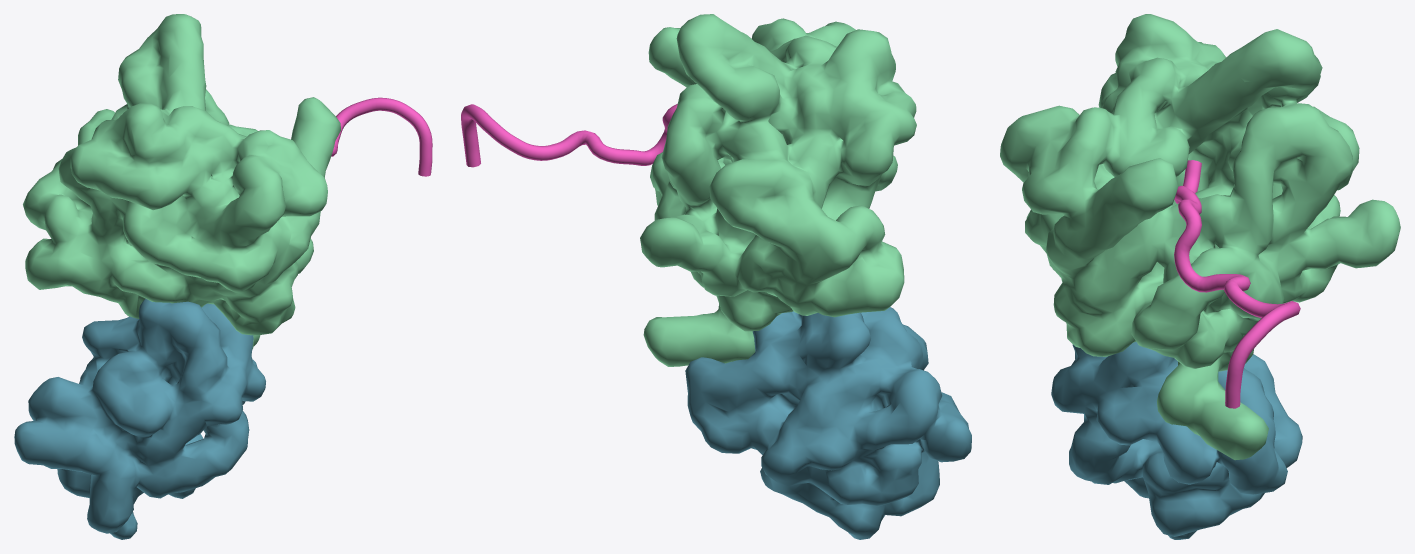
The model's file is termination-8yfq.glb.
The picture shows the model from 3 angles, left to right: view 1: azimuth 30°, elevation 25°; view 2: azimuth 150°, elevation 25°; view 3: azimuth 270°, elevation 25°; orthographic projection. The views are drawn at different scales.
Visible parts, largest first — view 1: term_rat1, term_rai1, term_rna; view 2: term_rat1, term_rai1, term_rna; view 3: term_rat1, term_rai1, term_rna.
Part boxes in pixels (x1=…): term_rat1: x1=23, y1=14, x2=340, y2=349; term_rai1: x1=14, y1=298, x2=265, y2=539; term_rna: x1=331, y1=97, x2=432, y2=176; term_rat1: x1=640, y1=14, x2=916, y2=366; term_rai1: x1=685, y1=307, x2=971, y2=539; term_rna: x1=461, y1=104, x2=677, y2=167; term_rat1: x1=1000, y1=14, x2=1400, y2=460; term_rai1: x1=1051, y1=342, x2=1302, y2=539; term_rna: x1=1174, y1=160, x2=1300, y2=408.
Size of the model in its own units: 2.88 by 2.99 by 1.92.
